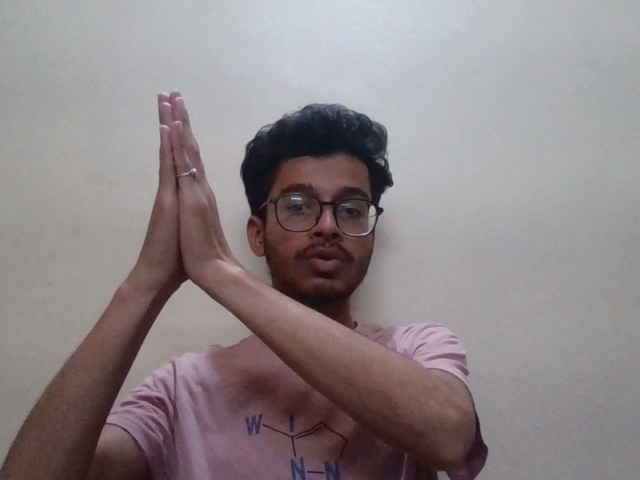please: (116, 71, 275, 287)
